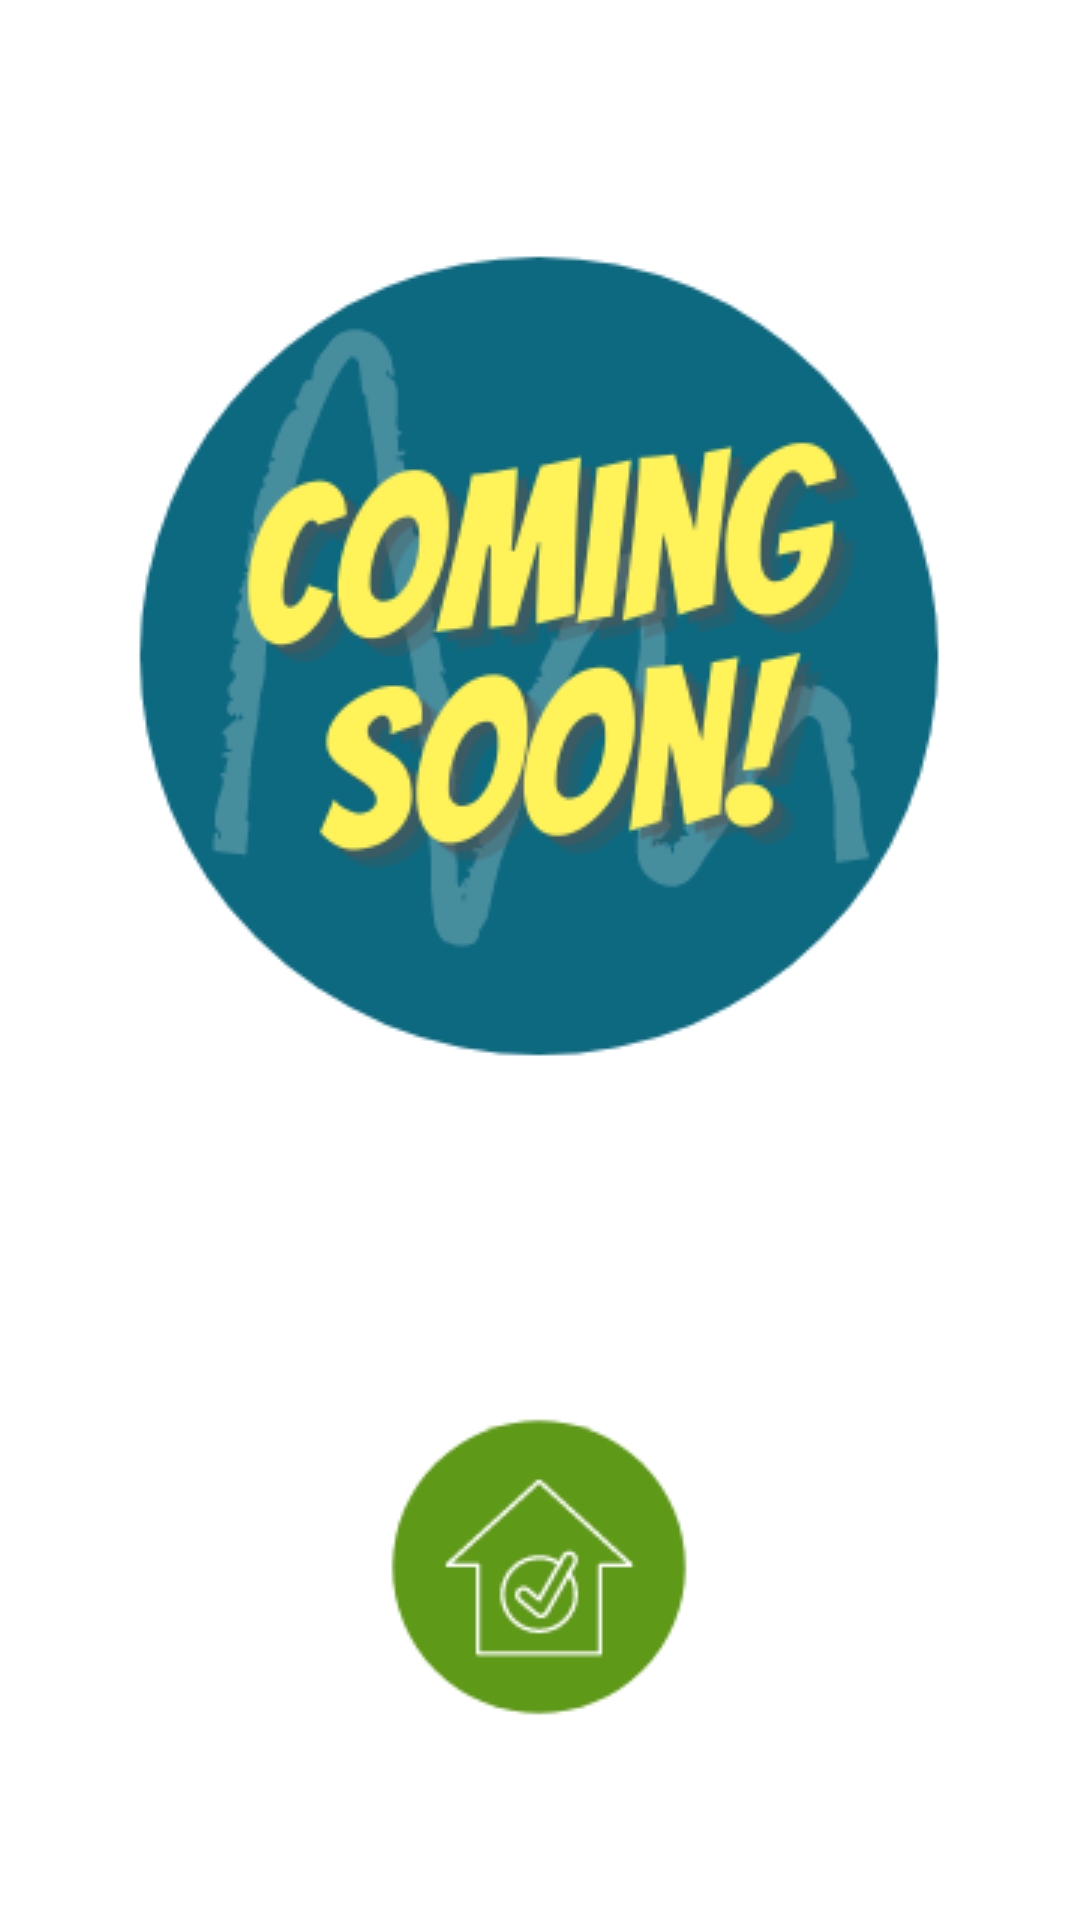

Icon click points for this 1080 × 1920 phone screenshot, format (x=x, y=y):
homebutton: (x=539, y=1567)
